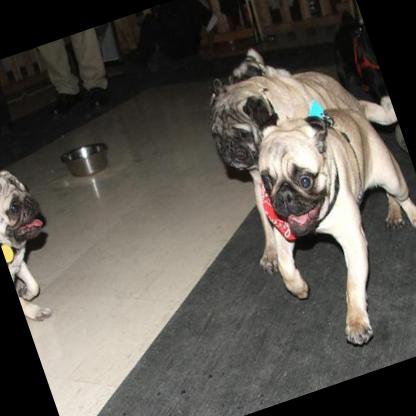pug: (191, 23, 416, 280), (228, 82, 416, 361), (230, 82, 416, 359), (0, 156, 73, 324)
